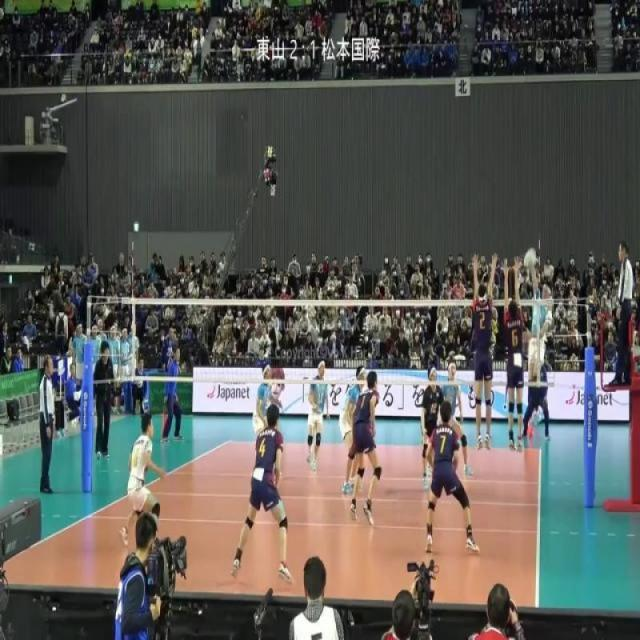volleyball: (522, 246, 537, 269)
